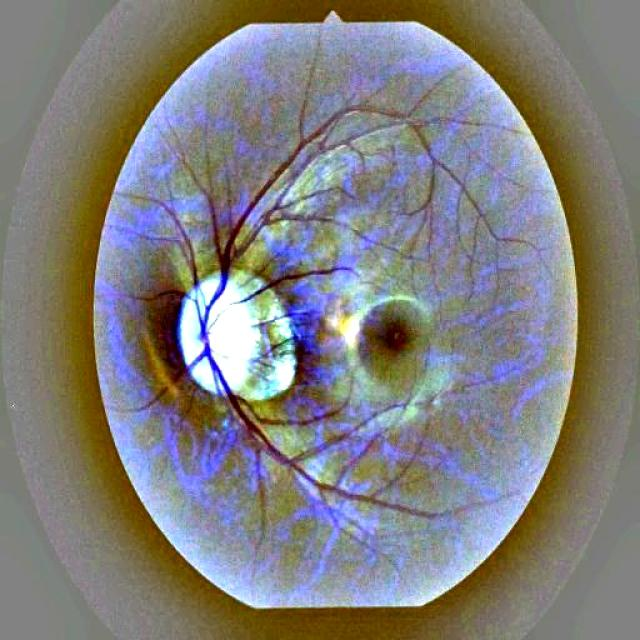Macula: (360, 300, 435, 373)
Nerves: (185, 94, 454, 533)
Optic Disk: (171, 266, 306, 409)
